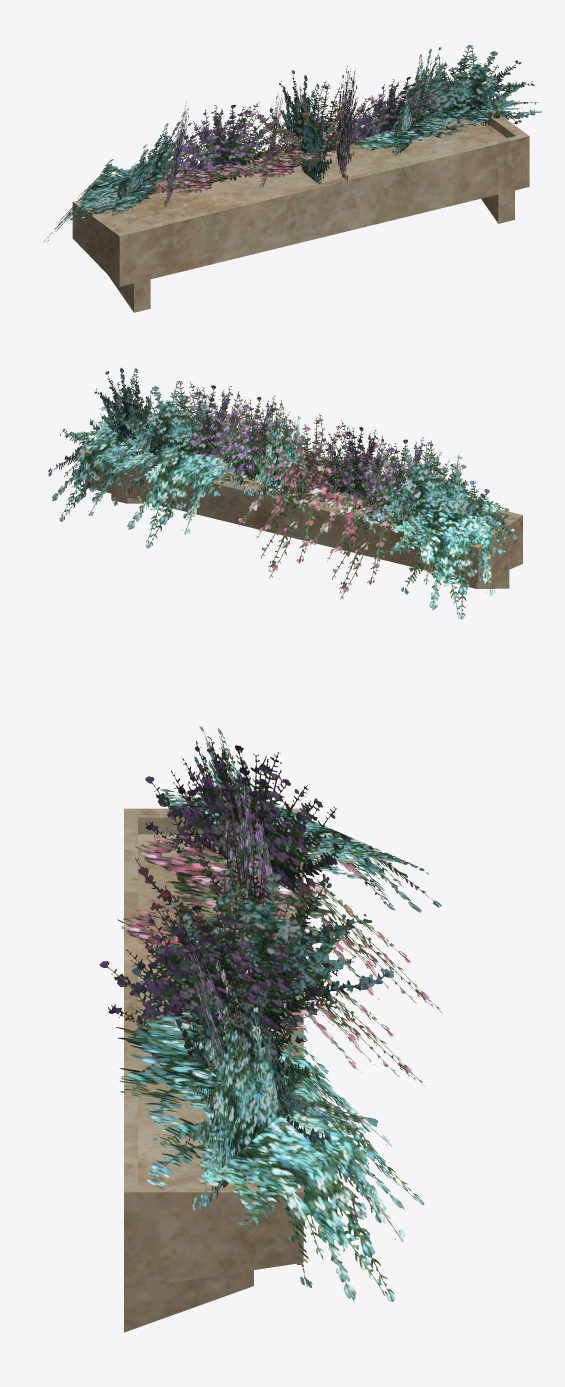
The model's file is thm_tato_imprv_planter_window_s01_l0.fbx.
3 views of the same model, one above another, from view 1: azimuth 30°, elevation 25°; view 2: azimuth 150°, elevation 25°; view 3: azimuth 270°, elevation 25° (orthographic). The views are drawn at different scales.
Visible parts, largest first — view 1: mesh_node; view 2: mesh_node; view 3: mesh_node.
Boxes of the visible parts, x1,y1,x2,y2 form: mesh_node: (44, 45, 541, 312); mesh_node: (48, 367, 522, 619); mesh_node: (99, 726, 442, 1332).
Bounding box in the file's own units: 4 × 1.25 × 1.52.
